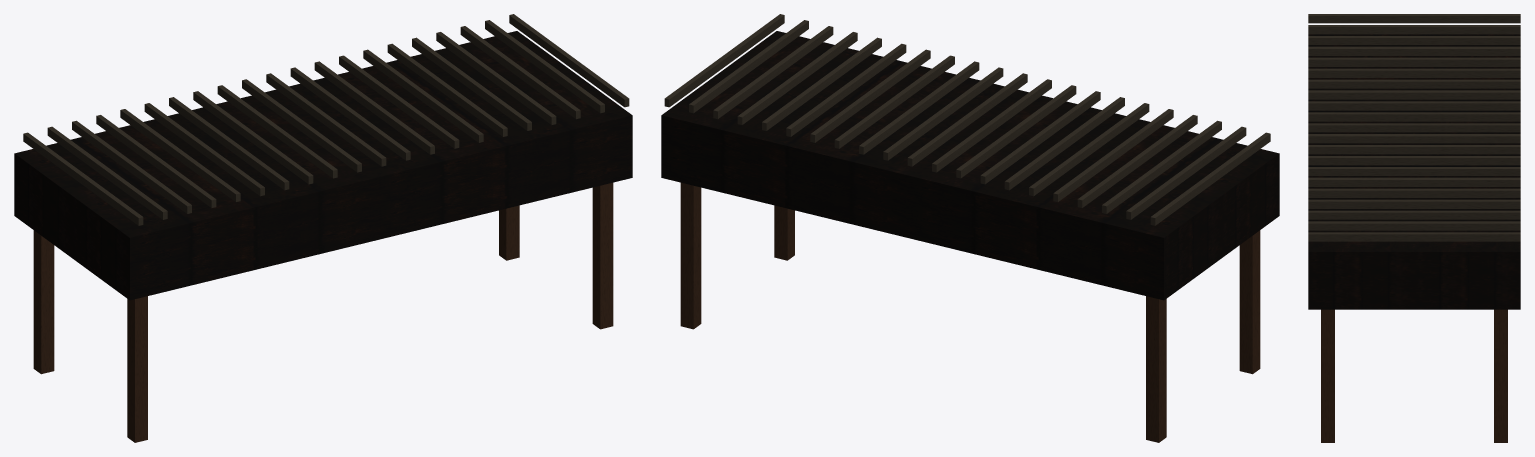
3 views of the same model, side by side, from view 1: azimuth 30°, elevation 25°; view 2: azimuth 150°, elevation 25°; view 3: azimuth 270°, elevation 25° (orthographic). The views are drawn at different scales.
Parts seen in each view (by area): view 1: fixture-C-grill; view 2: fixture-C-grill; view 3: fixture-C-grill.
Boxes of the visible parts, x1,y1,x2,y2 form: fixture-C-grill: (14, 14, 632, 442); fixture-C-grill: (661, 14, 1279, 442); fixture-C-grill: (1308, 14, 1520, 442).
Bounding box in the file's own units: 2.69 × 1.18 × 1.07.
Materials: 3 (3 with a texture image).
